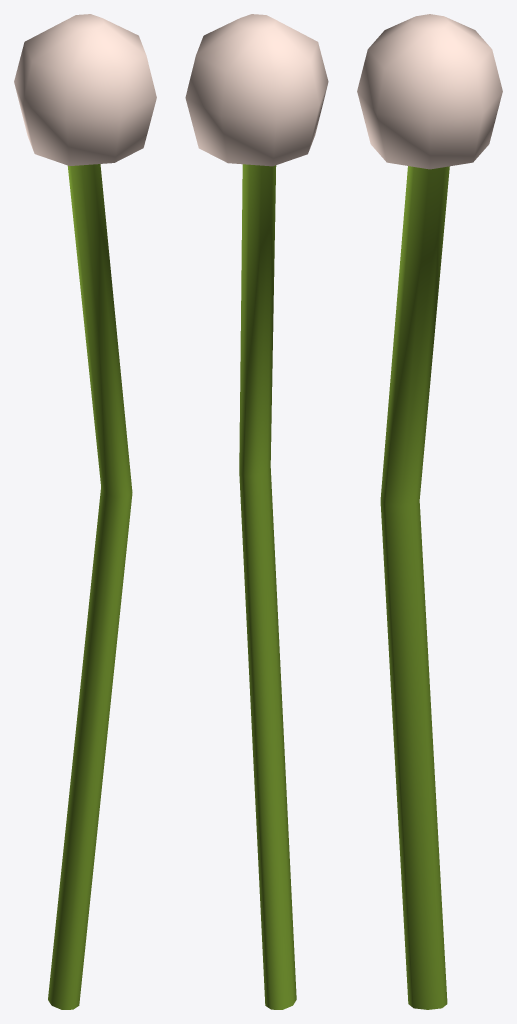
File: Flower_31.fbx
The picture shows the model from 3 angles, left to right: view 1: azimuth 30°, elevation 25°; view 2: azimuth 150°, elevation 25°; view 3: azimuth 270°, elevation 25°; orthographic projection.
Parts seen in each view (by area): view 1: Flower_31; view 2: Flower_31; view 3: Flower_31.
Boxes of the visible parts, <box> form: Flower_31: <box>14,14,156,1009</box>; Flower_31: <box>185,14,328,1009</box>; Flower_31: <box>357,14,502,1009</box>.
Bounding box in the file's own units: 15.67 × 117 × 15.54.
